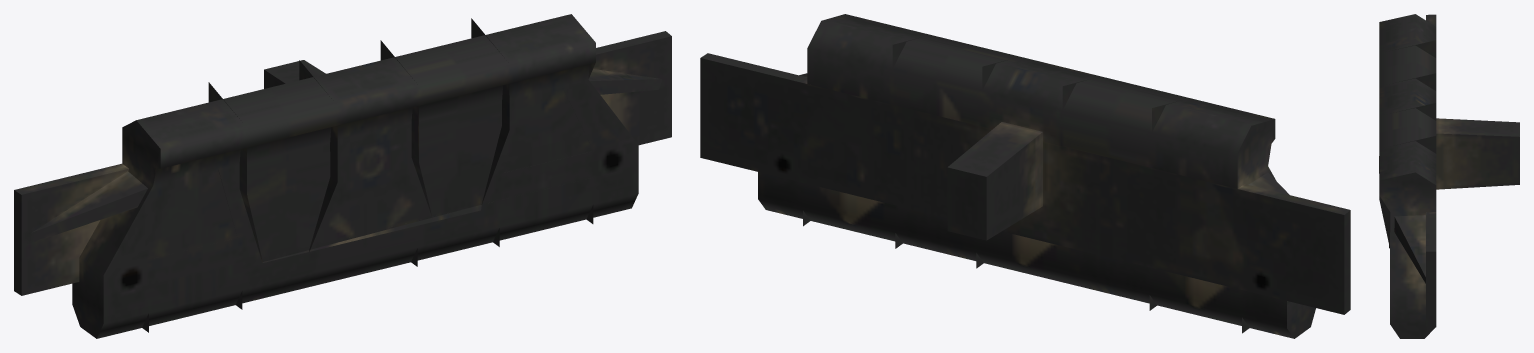
The picture shows the model from 3 angles, left to right: view 1: azimuth 30°, elevation 25°; view 2: azimuth 150°, elevation 25°; view 3: azimuth 270°, elevation 25°; orthographic projection. The views are drawn at different scales.
Parts seen in each view (by area): view 1: set_0_group_0; view 2: set_0_group_0; view 3: set_0_group_0.
Boxes of the visible parts, left/top/right/bottom form: set_0_group_0: left=14, top=14, right=671, bottom=338; set_0_group_0: left=700, top=14, right=1350, bottom=338; set_0_group_0: left=1379, top=14, right=1519, bottom=338.
Size of the model in its own units: 0.5524 by 0.1669 by 0.1385.
Materials: 1 (1 with a texture image).
